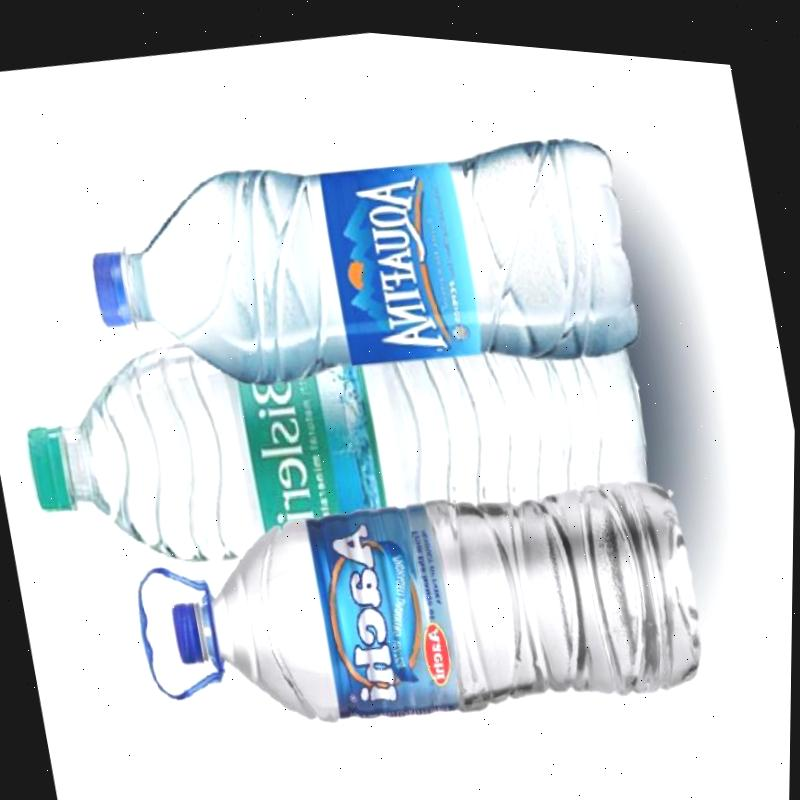botella: (12, 243, 674, 635), (74, 77, 661, 445), (152, 427, 719, 774)
